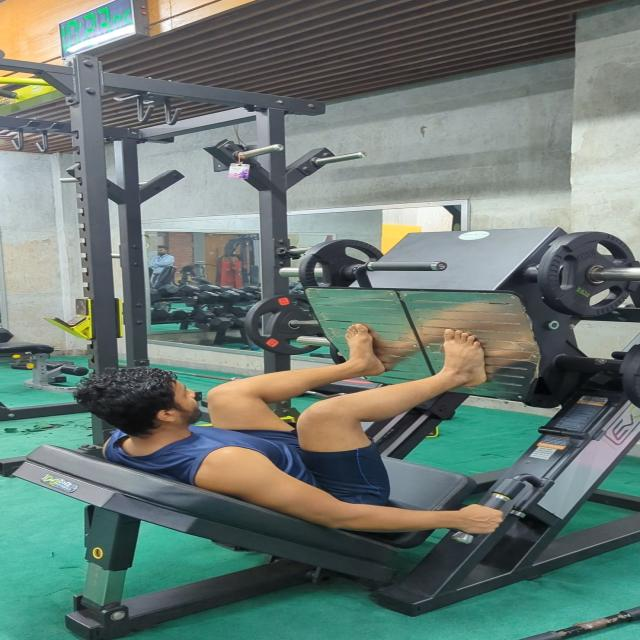Normal_LegPress: (59, 315, 513, 547)
